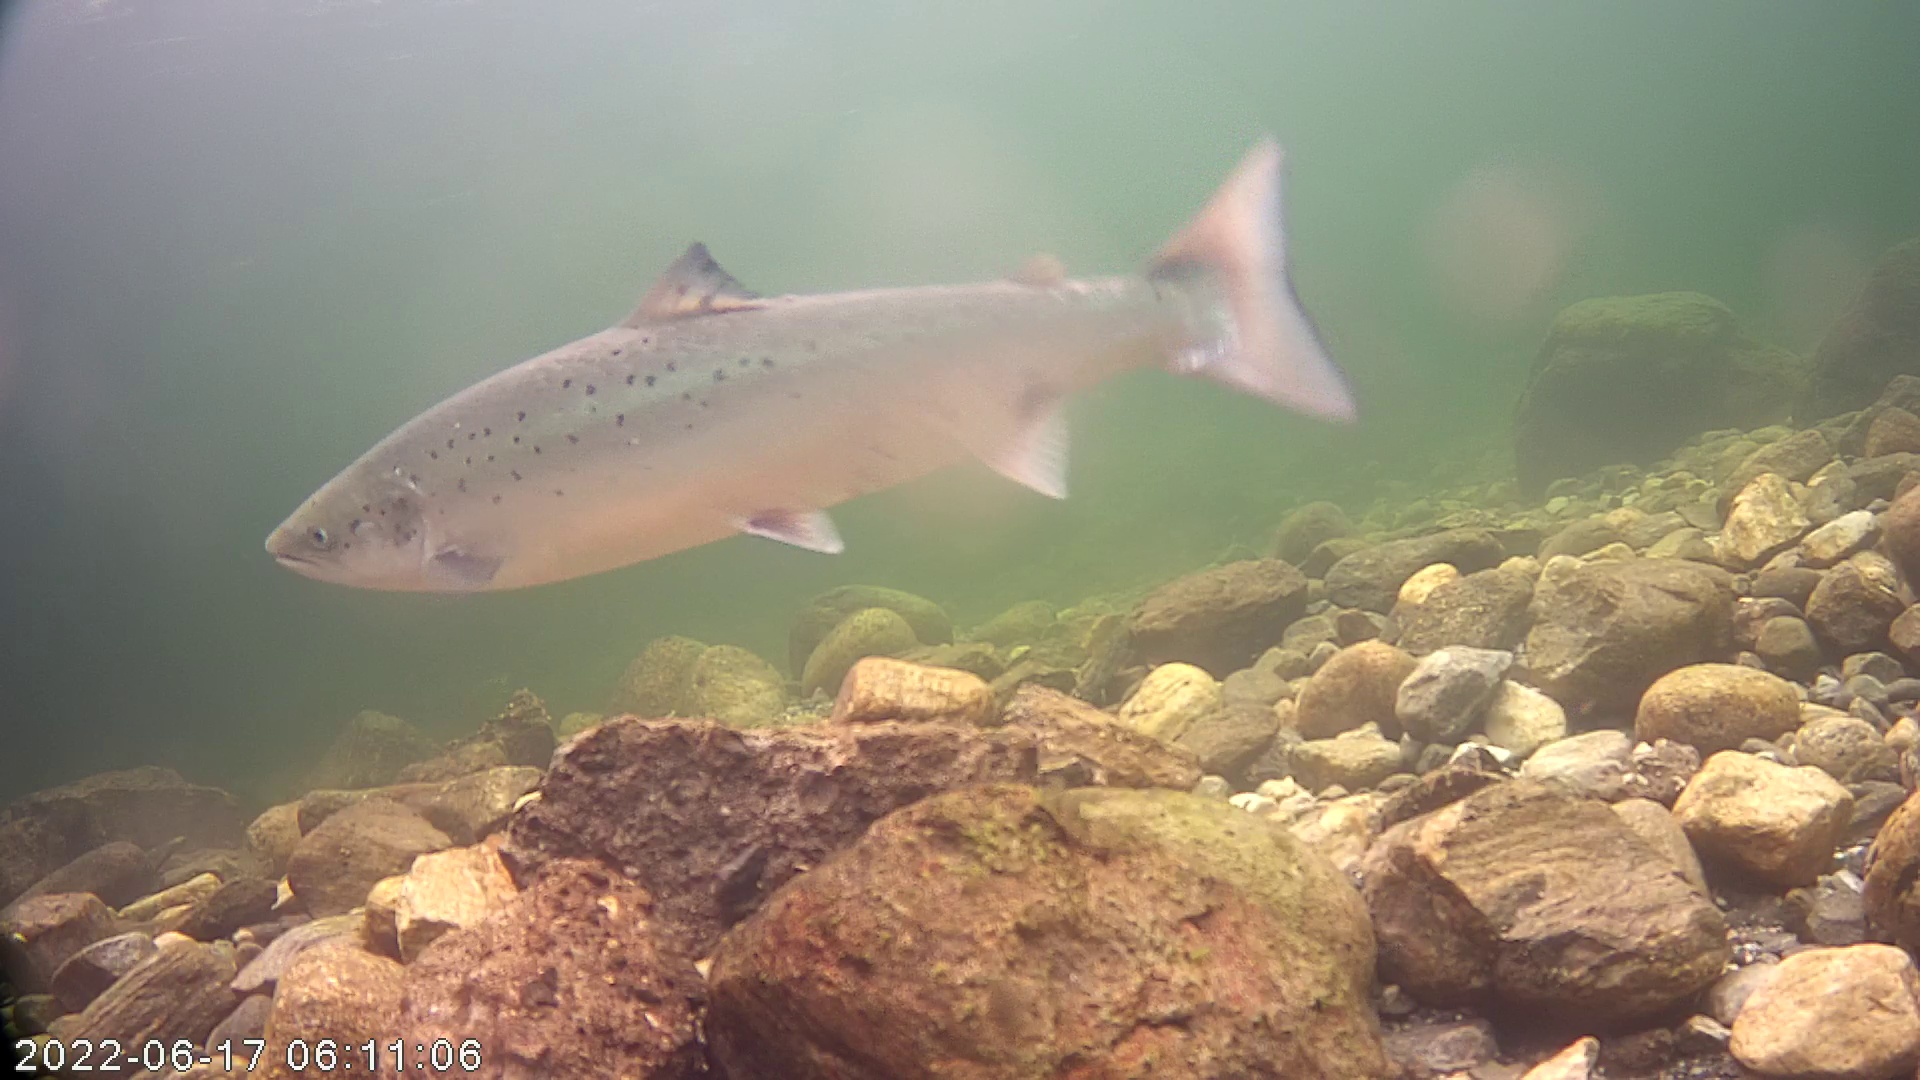salmon: (264, 129, 1360, 596)
